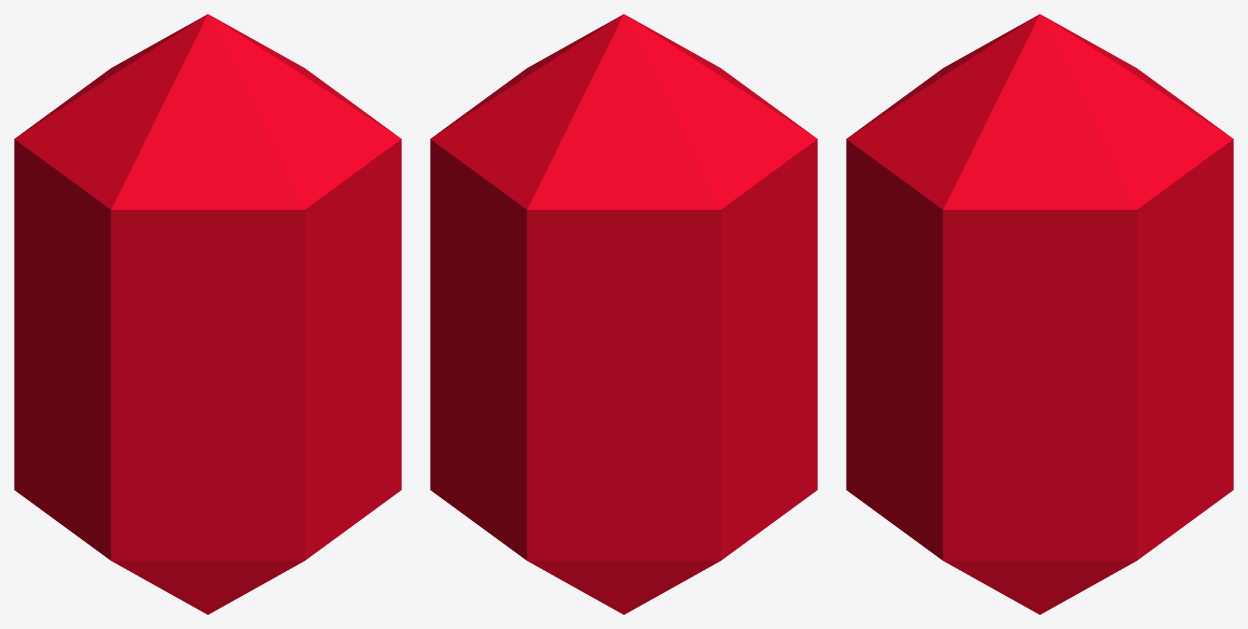
Rendered from Ruby.fbx.
3 views of the same model, side by side, from view 1: azimuth 30°, elevation 25°; view 2: azimuth 150°, elevation 25°; view 3: azimuth 270°, elevation 25° (orthographic).
Parts seen in each view (by area): view 1: Ruby; view 2: Ruby; view 3: Ruby.
Boxes of the visible parts, bbox=[...] form: Ruby: bbox=[14, 14, 401, 614]; Ruby: bbox=[430, 14, 817, 614]; Ruby: bbox=[846, 14, 1233, 614].
Size of the model in its own units: 5.07 by 10.02 by 5.85.
Materials: 1 (1 with a texture image).
